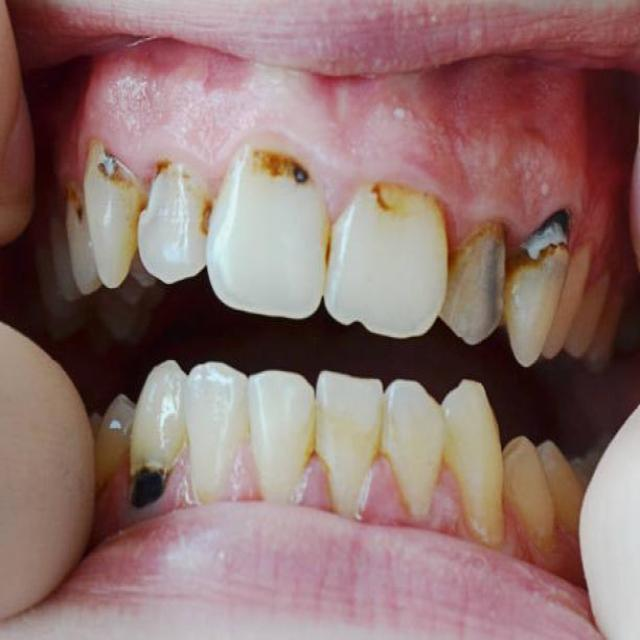caries: (149, 143, 213, 234), (238, 136, 311, 195), (76, 127, 138, 195), (514, 202, 579, 263), (119, 457, 174, 518)
